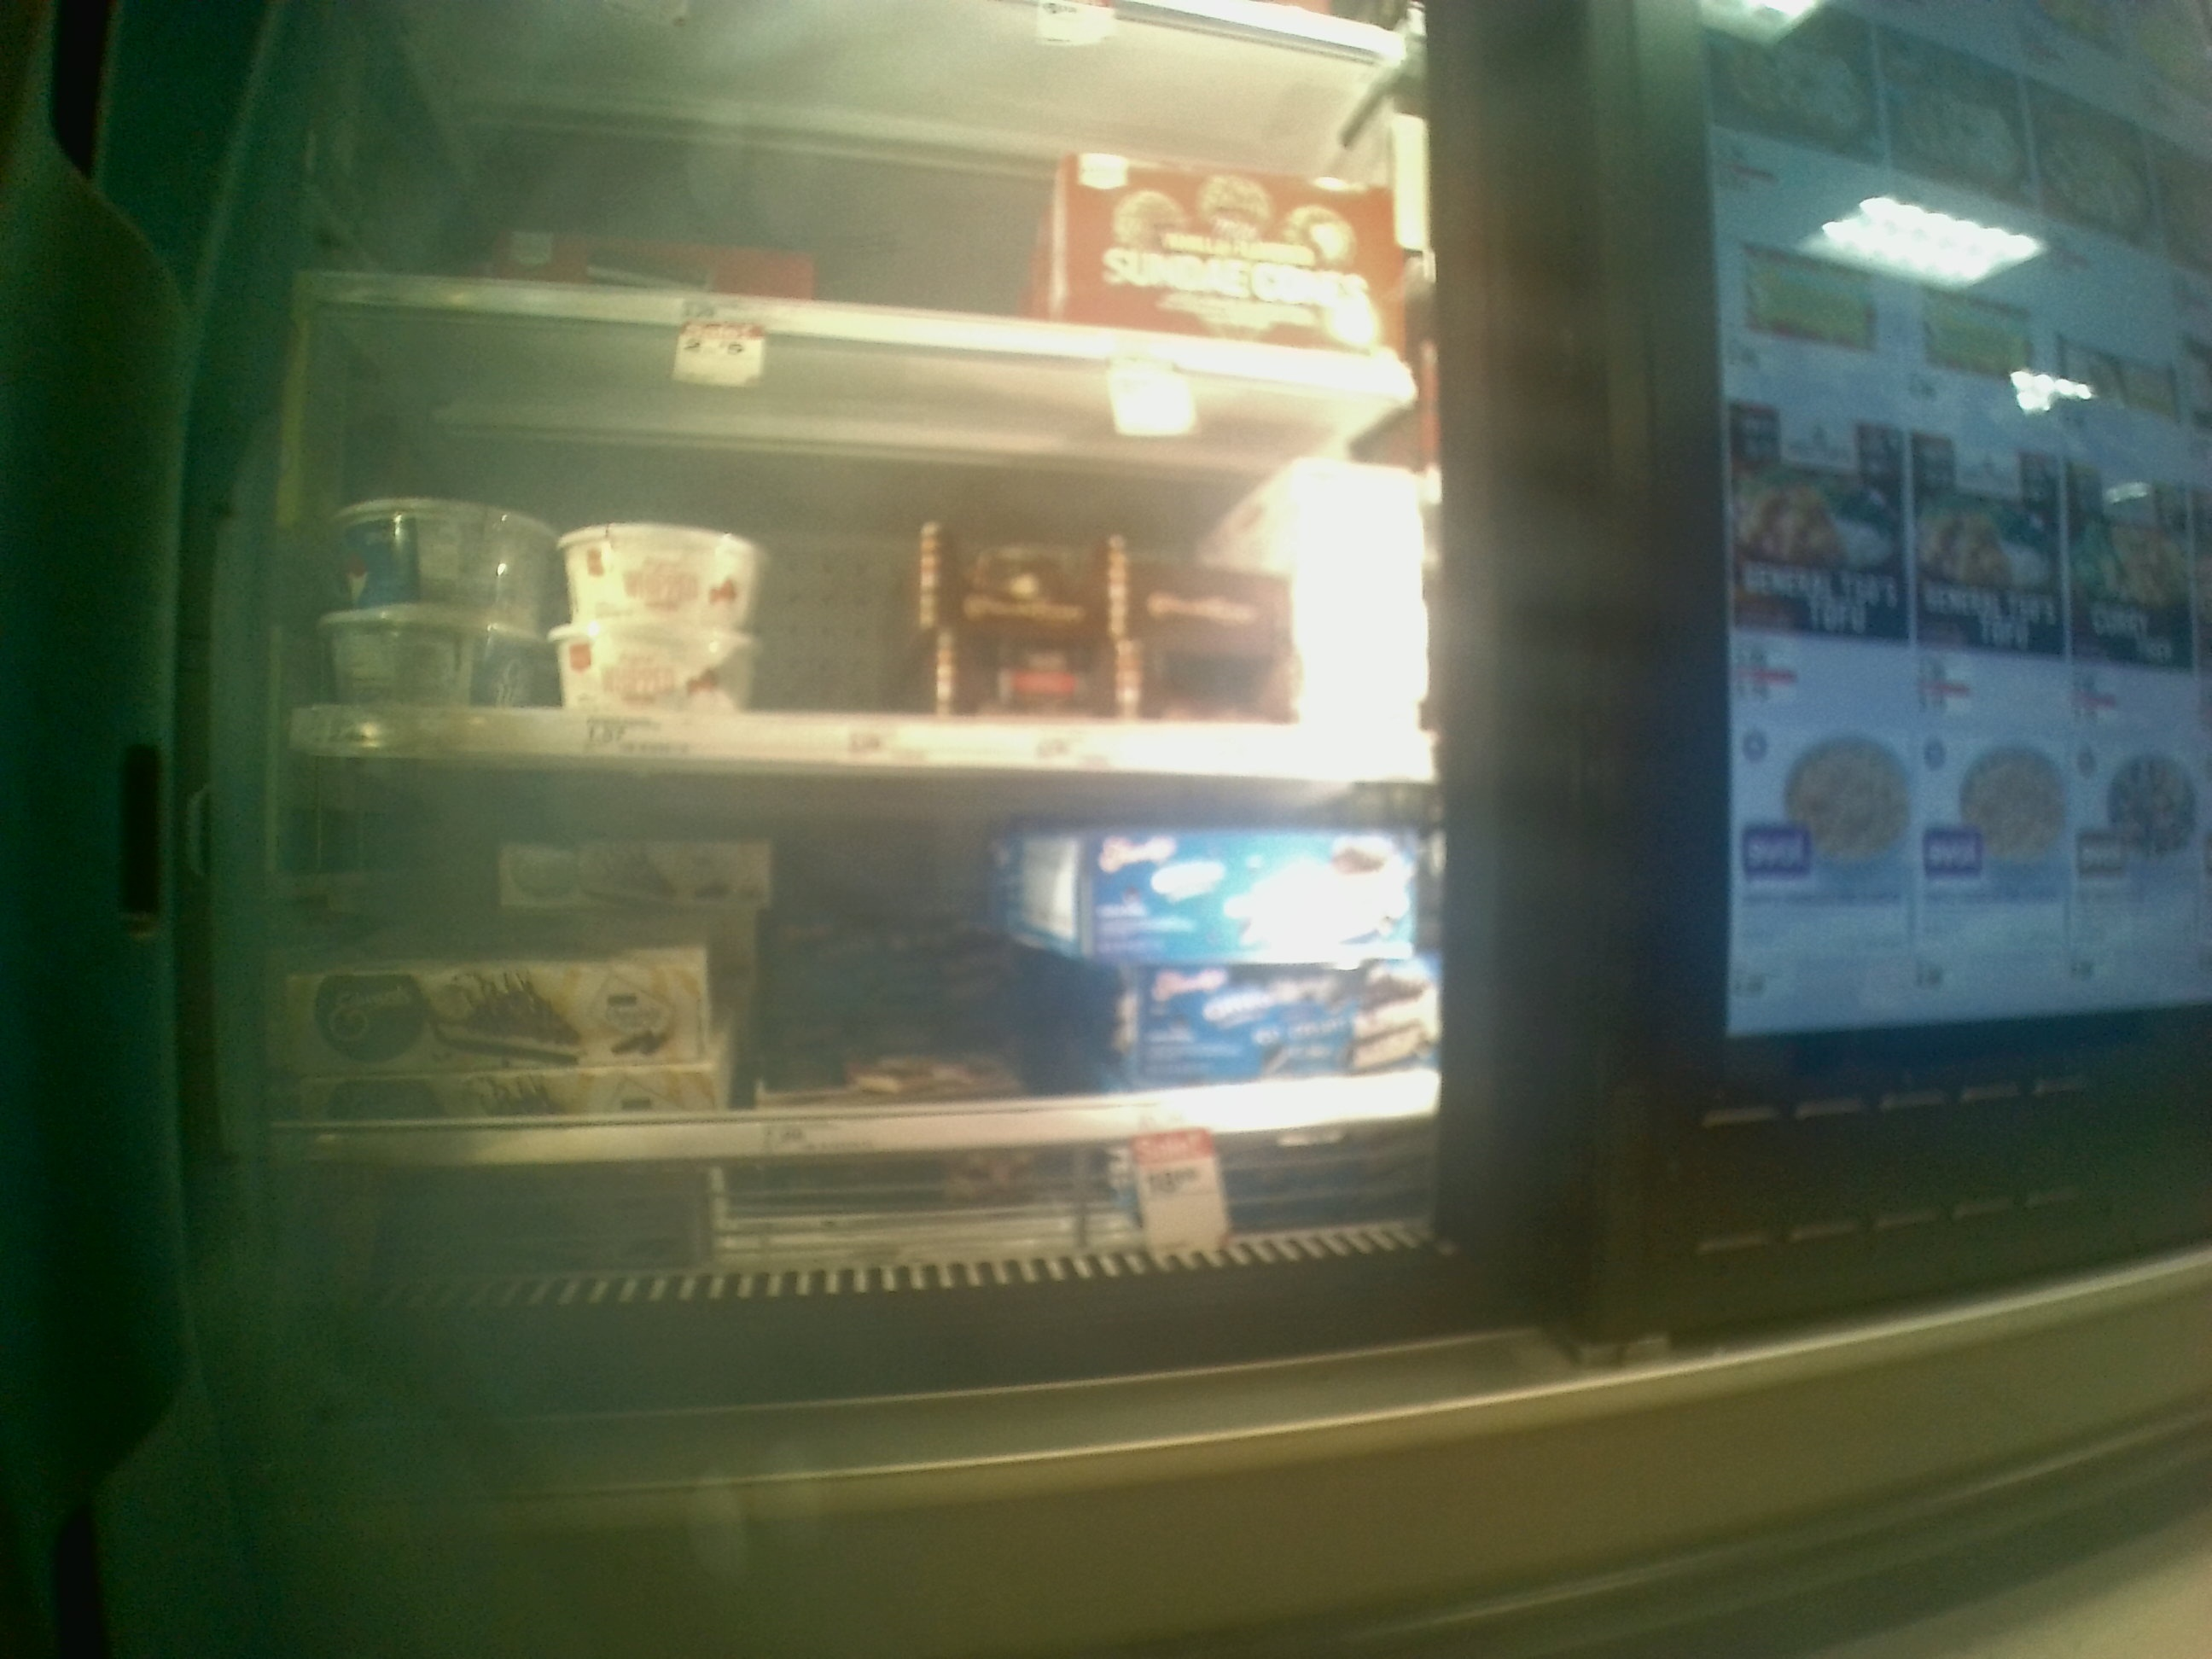frozen-food-shelf: (286, 762, 1447, 1159)
